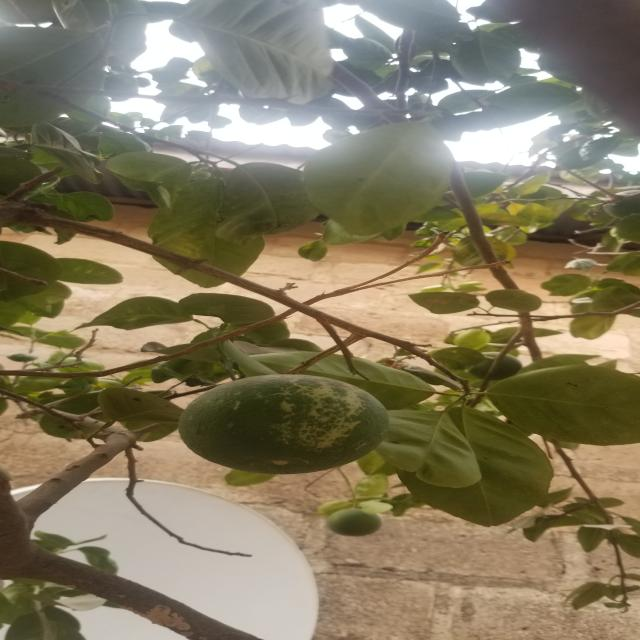Unripe: (163, 357, 415, 487)
